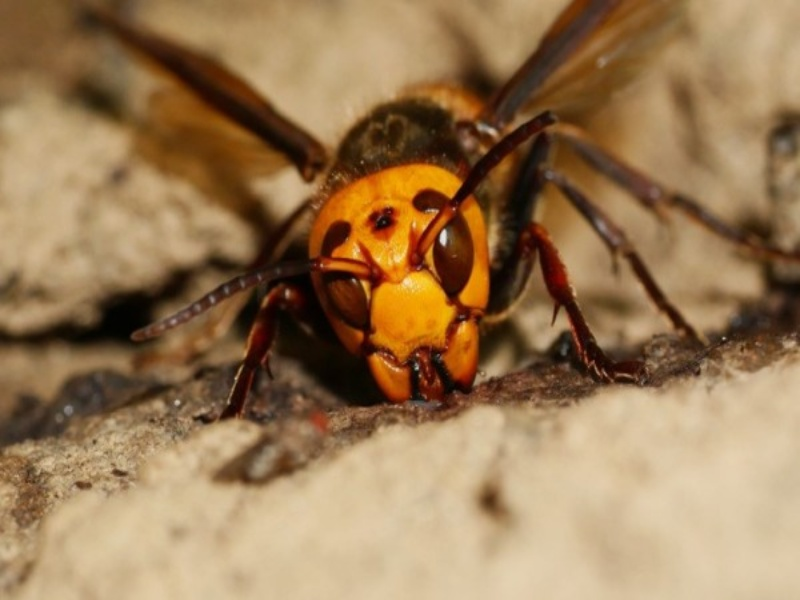asian_giant_hornet: (103, 14, 743, 423)
